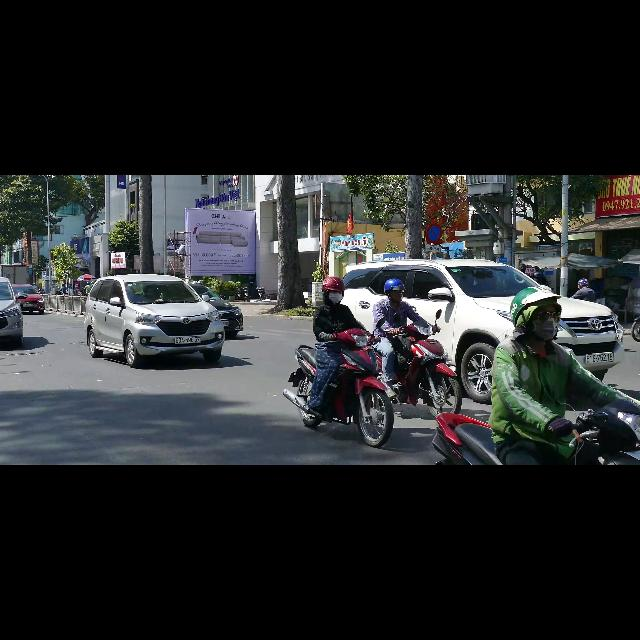car: (342, 260, 550, 402), (85, 275, 224, 367), (190, 284, 243, 338), (0, 278, 27, 347), (12, 284, 44, 314)
motorcycle: (283, 329, 393, 447), (392, 310, 461, 416), (570, 400, 639, 464), (630, 317, 640, 343), (236, 288, 246, 300), (258, 287, 267, 300), (243, 288, 249, 301)
truck: (0, 265, 29, 283)
